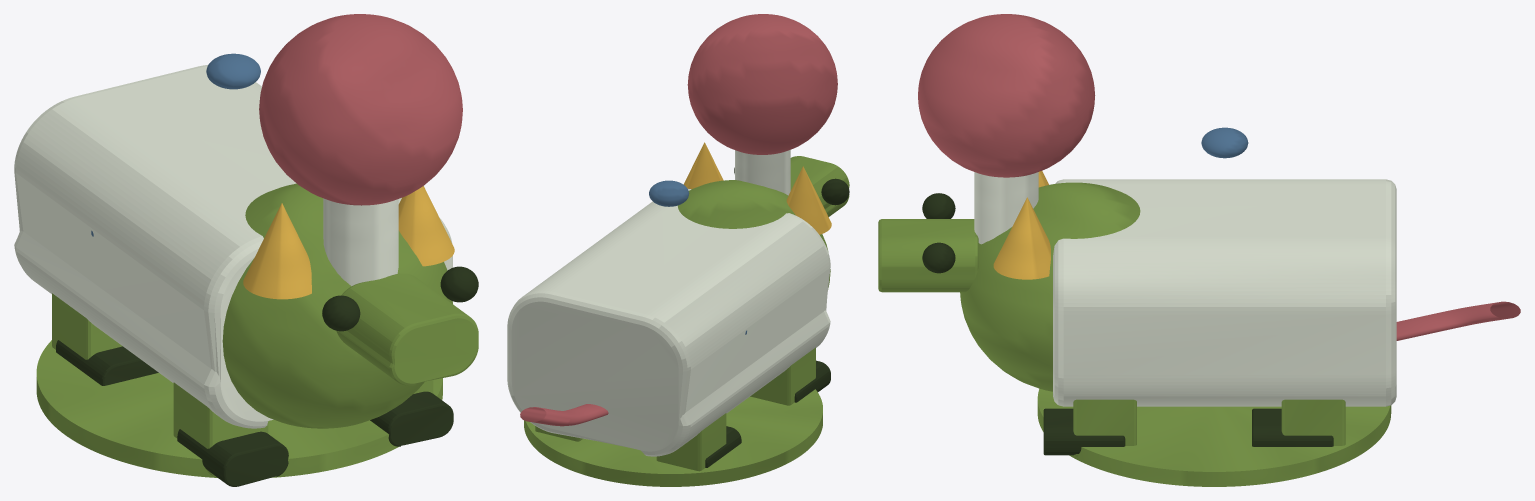
The model's file is 0842_两栖动物图鉴_印度牛蛙.glb.
3 renders of one model, left to right at view 1: azimuth 30°, elevation 25°; view 2: azimuth 150°, elevation 25°; view 3: azimuth 270°, elevation 25°, orthographic. The views are drawn at different scales.
Parts seen in each view (by area): view 1: card_0842; view 2: card_0842; view 3: card_0842.
Boxes of the visible parts, bbox=[...] form: card_0842: bbox=[14, 14, 478, 486]; card_0842: bbox=[507, 14, 849, 486]; card_0842: bbox=[878, 14, 1520, 486].
Size of the model in its own units: 0.7957 by 1 by 1.48.
